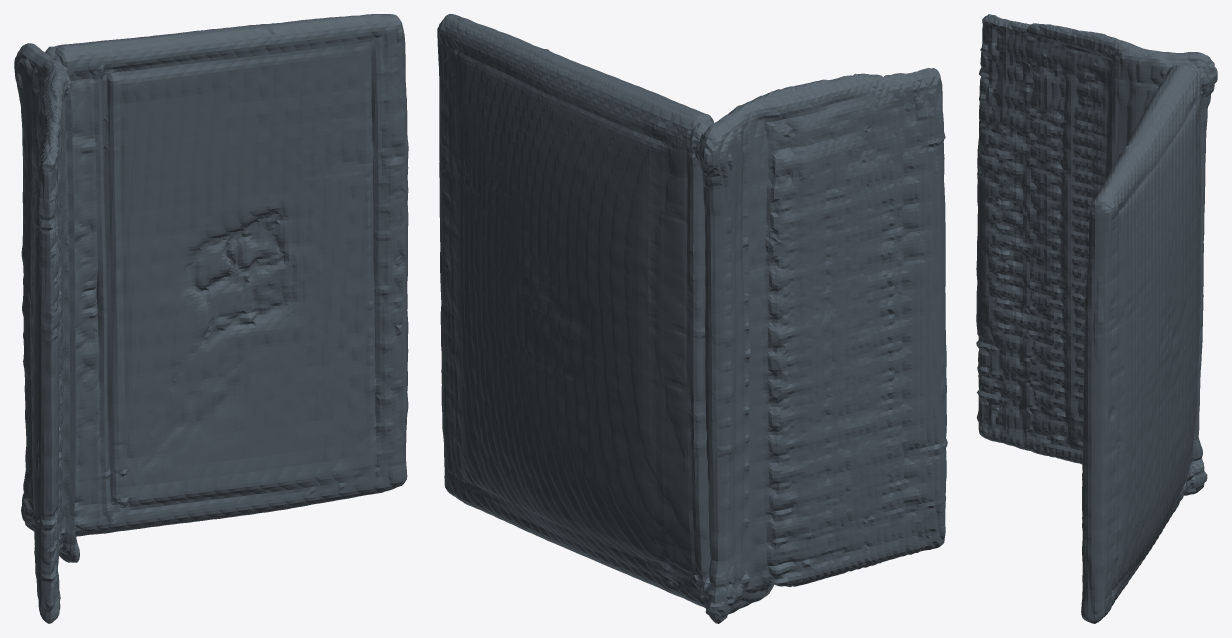
The model's file is raw.glb.
3 views of the same model, side by side, from view 1: azimuth 30°, elevation 25°; view 2: azimuth 150°, elevation 25°; view 3: azimuth 270°, elevation 25° (orthographic). The views are drawn at different scales.
Parts seen in each view (by area): view 1: world; view 2: world; view 3: world.
Boxes of the visible parts, x1,y1,x2,y2 form: world: (14,14,408,623); world: (437,14,947,623); world: (976,14,1217,623).
Bounding box in the file's own units: 0.25 × 0.2741 × 0.1339.
